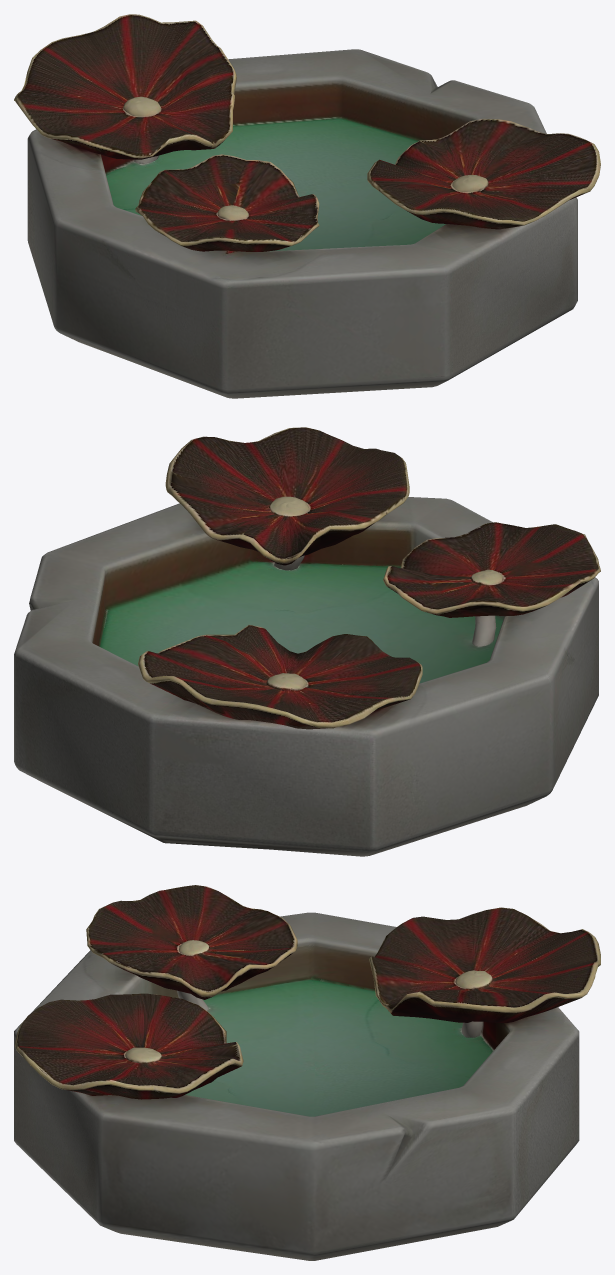
Rendered from tripo_convert_376d847c-c7e2-4346-b0d5-27969f7744b7.fbx.
3 renders of one model, top to bottom at view 1: azimuth 30°, elevation 25°; view 2: azimuth 150°, elevation 25°; view 3: azimuth 270°, elevation 25°, orthographic. The views are drawn at different scales.
Visible parts, largest first — view 1: tripo_node_376d847c; view 2: tripo_node_376d847c; view 3: tripo_node_376d847c.
Boxes of the visible parts, bbox=[...] form: tripo_node_376d847c: bbox=[14, 14, 600, 398]; tripo_node_376d847c: bbox=[14, 427, 600, 856]; tripo_node_376d847c: bbox=[14, 885, 600, 1260].
Size of the model in its own units: 0.9434 by 0.334 by 0.998.
Materials: 1 (1 with a texture image).
